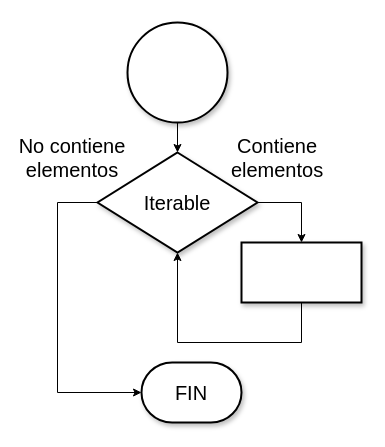
This 385x447 diagram has some shape labels left out. The shapes that lost their labels are listed below. From the top down, each one's centre as x and y in pixels, then its label:
At point 178,73: "Inicio".
At point 302,273: "Proceso(s)".
